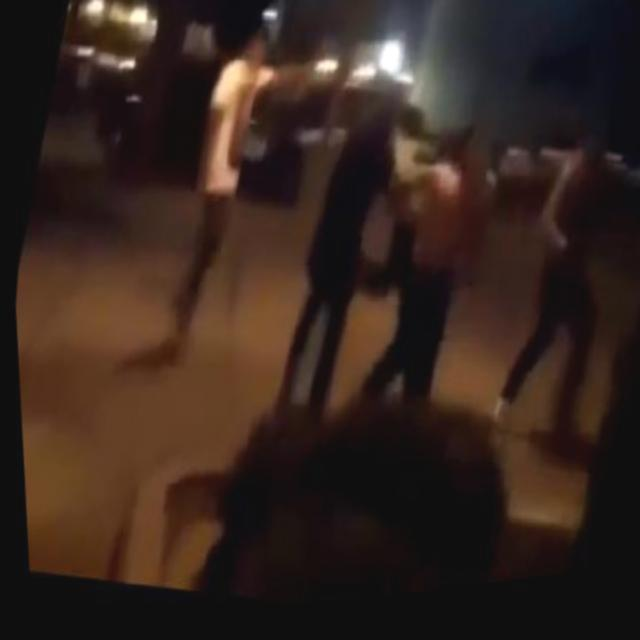fight: (270, 80, 500, 445)
